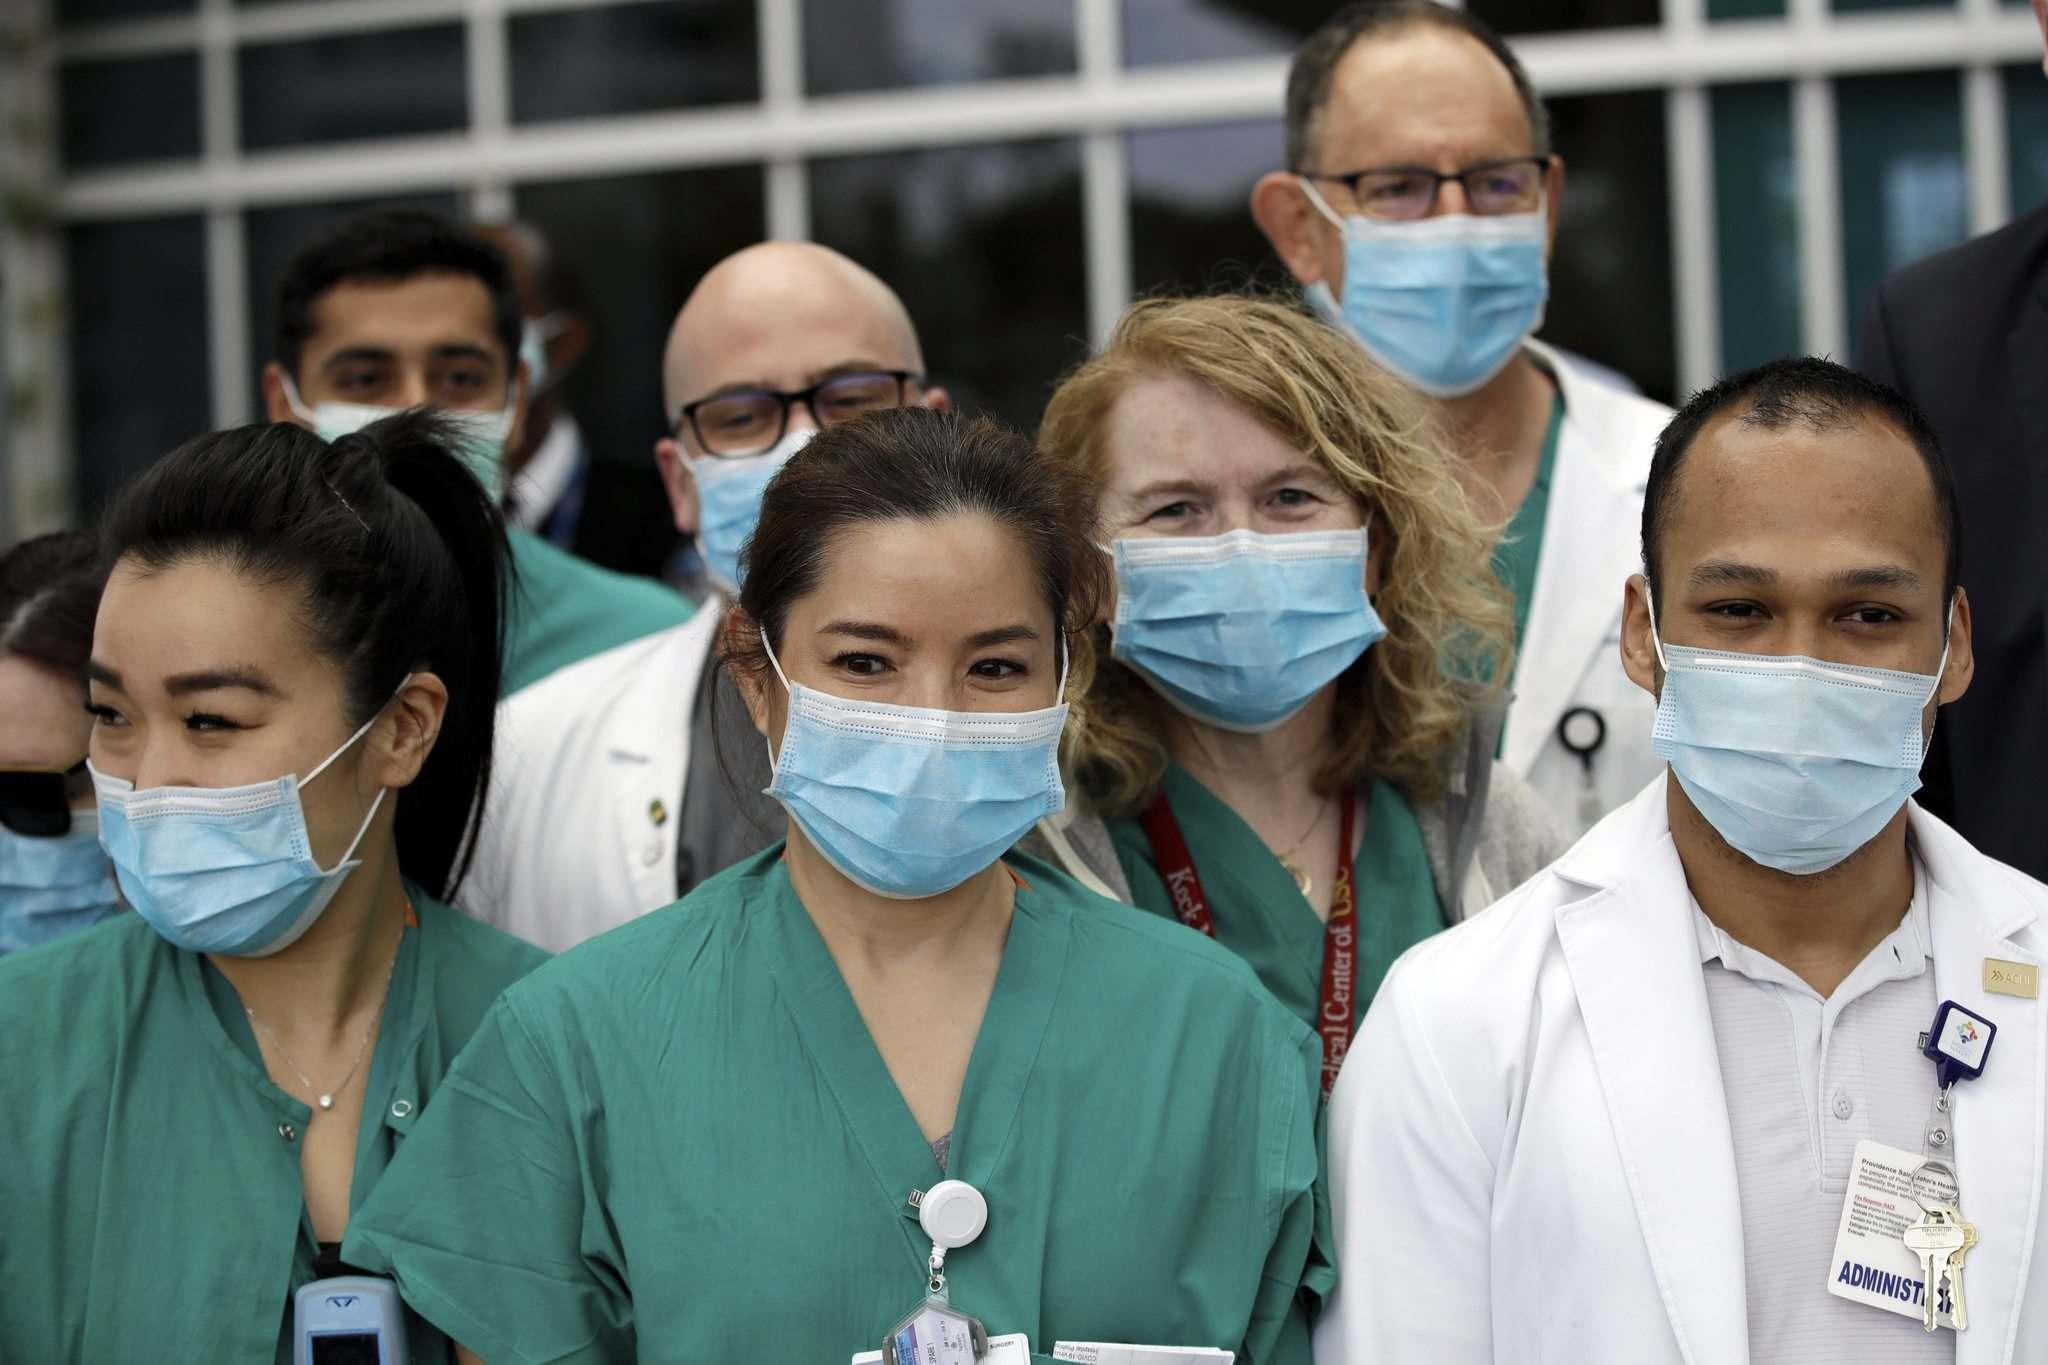with_mask: (1660, 426, 1956, 884), (73, 595, 381, 963), (1079, 413, 1392, 734), (743, 604, 1072, 897), (1315, 90, 1556, 395)
